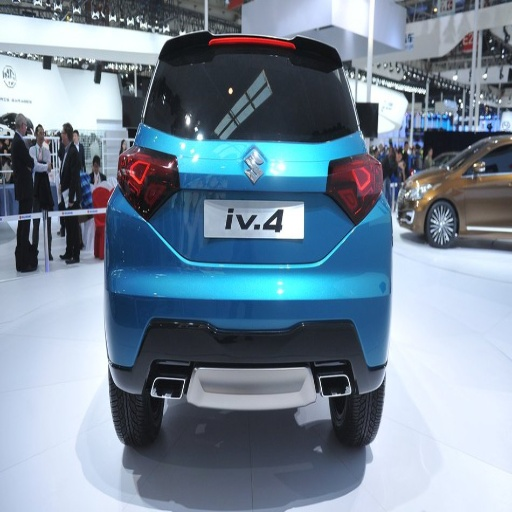back_bumper: (107, 201, 390, 412)
front_left_door: (466, 147, 509, 222)
tailgate: (134, 152, 337, 277)
trunk: (138, 131, 359, 316)
